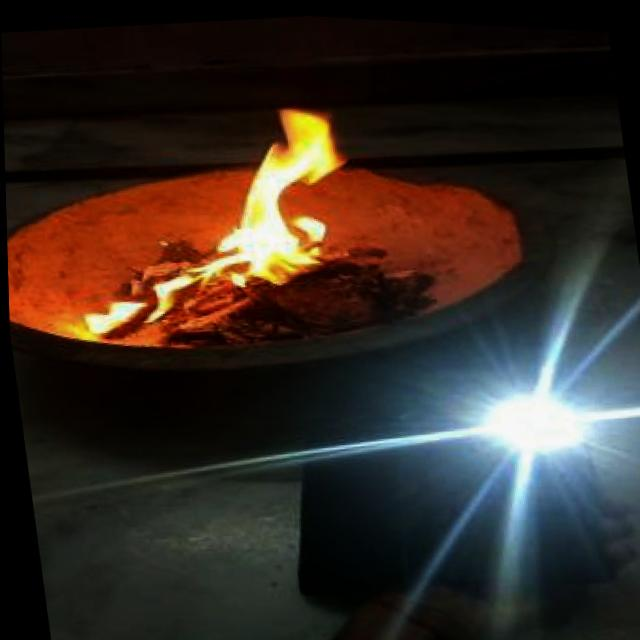Fire: (52, 85, 373, 358)
